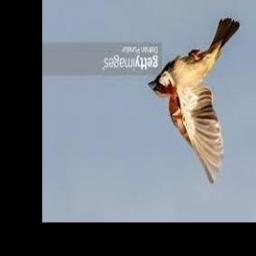Sparrow: (149, 18, 241, 184)
